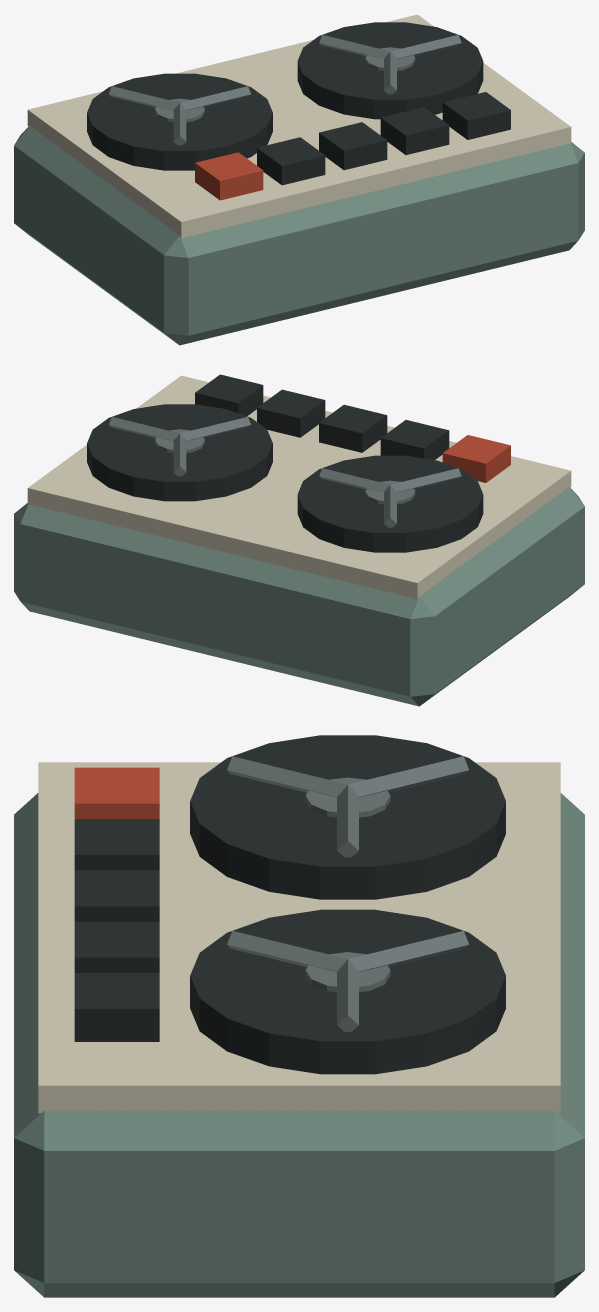
Rendered from recorder.glb.
The picture shows the model from 3 angles, top to bottom: view 1: azimuth 30°, elevation 25°; view 2: azimuth 150°, elevation 25°; view 3: azimuth 270°, elevation 25°; orthographic projection. The views are drawn at different scales.
Visible parts, largest first — view 1: recorder; view 2: recorder; view 3: recorder.
Part boxes in pixels (x1,y1,x2,y2): recorder: [14, 14, 584, 345]; recorder: [14, 374, 584, 706]; recorder: [14, 735, 584, 1297].
Size of the model in its own units: 0.68 by 0.24 by 0.47.
